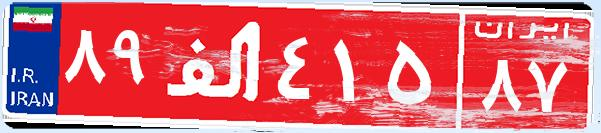1: (330, 28, 385, 110)
4: (273, 28, 330, 110)
5: (385, 28, 445, 110)
7: (525, 38, 570, 115)
8: (57, 26, 110, 107), (475, 38, 525, 113)
9: (110, 28, 158, 105)
الف: (158, 15, 273, 115)
